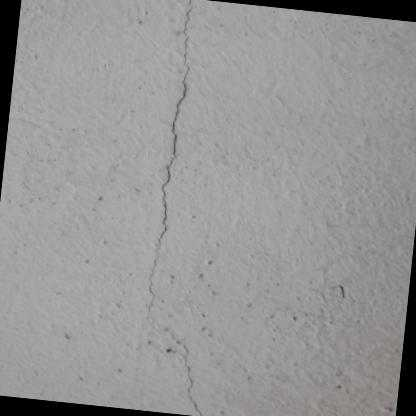crack: (147, 65, 203, 416), (183, 47, 187, 64)
